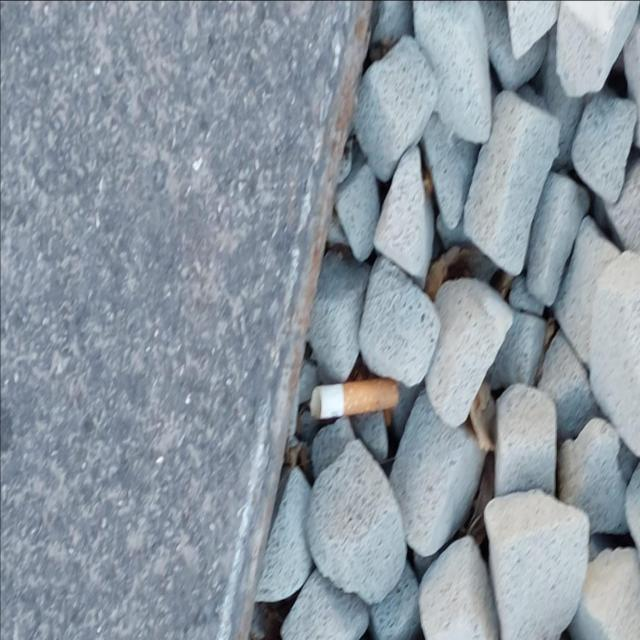other waste: (309, 376, 400, 421)
